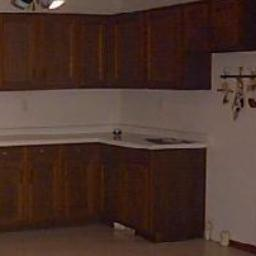Electrodomestico: (206, 53, 256, 250)
